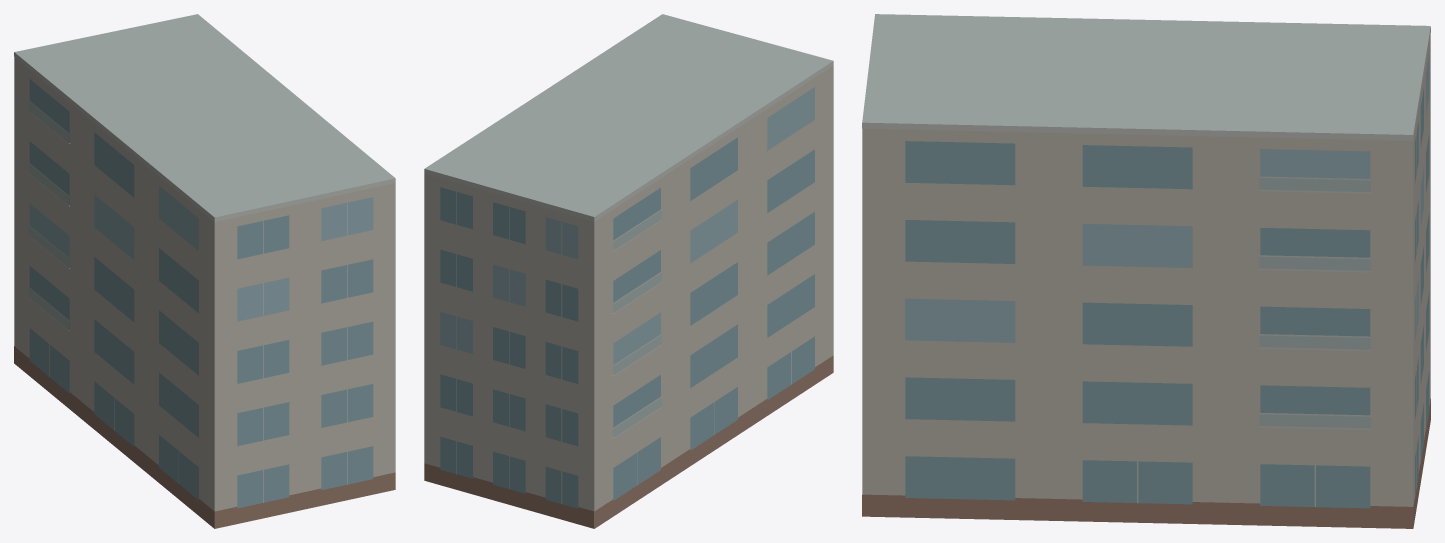
File: survey-upis-32588031.glb
3 renders of one model, left to right at view 1: azimuth 30°, elevation 25°; view 2: azimuth 150°, elevation 25°; view 3: azimuth 270°, elevation 25°, orthographic. The views are drawn at different scales.
Visible parts, largest first — view 1: survey-upis-32588031.tmp; view 2: survey-upis-32588031.tmp; view 3: survey-upis-32588031.tmp.
Part boxes in pixels (x1,y1,x2,y2): survey-upis-32588031.tmp: (14,14,395,528); survey-upis-32588031.tmp: (424,14,833,528); survey-upis-32588031.tmp: (862,14,1430,528).
Bounding box in the file's own units: 10.78 × 16.35 × 21.4.
